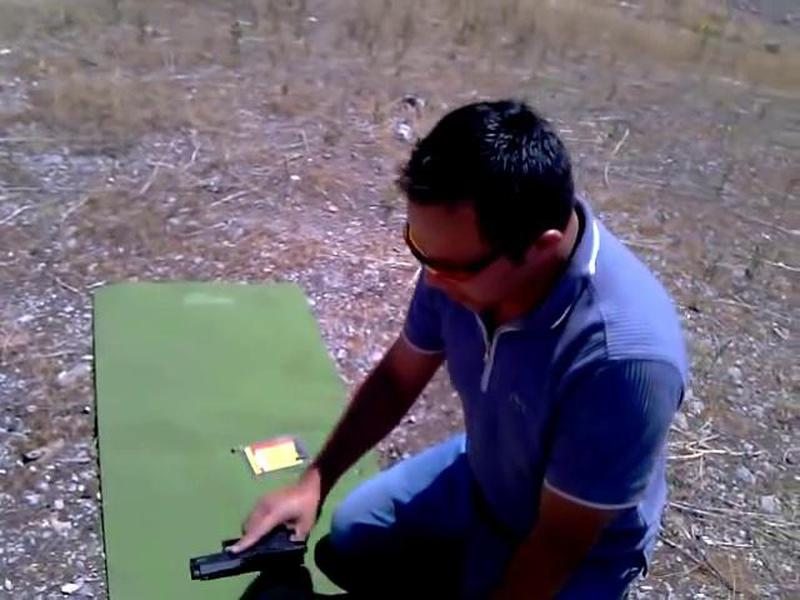Pistola: (162, 505, 328, 591)
